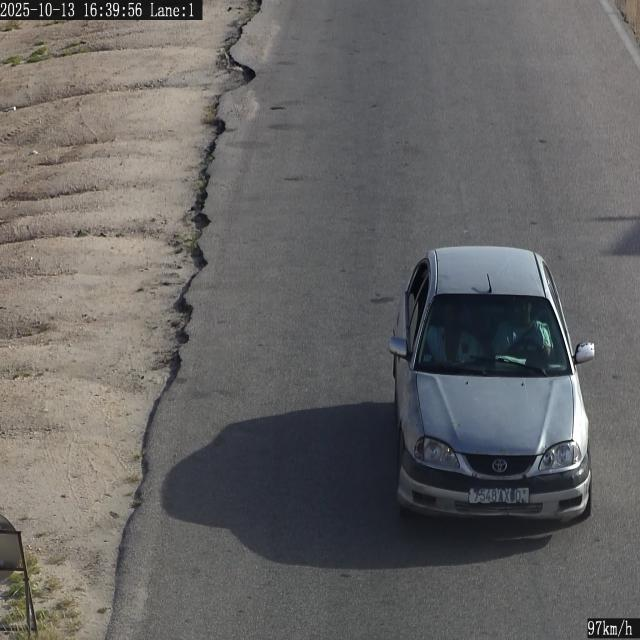BUS: (469, 488, 528, 504)
